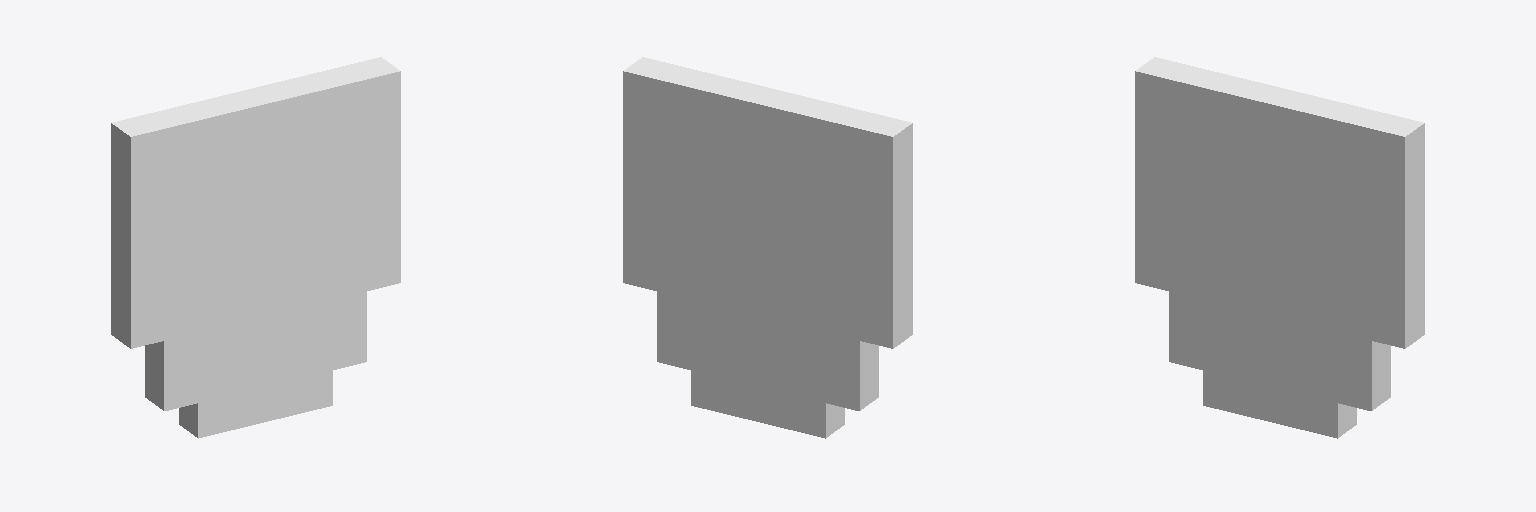
The model's file is sheild.obj.
3 views of the same model, side by side, from view 1: azimuth 30°, elevation 25°; view 2: azimuth 150°, elevation 25°; view 3: azimuth 330°, elevation 25° (orthographic).
Visible parts, largest first — view 1: object 1; view 2: object 1; view 3: object 1.
Part boxes in pixels (left/top/right/bottom): object 1: left=111, top=57, right=400, bottom=438; object 1: left=623, top=57, right=912, bottom=438; object 1: left=1135, top=57, right=1424, bottom=438.
Bounding box in the file's own units: 0.8 × 0.9 × 0.1.